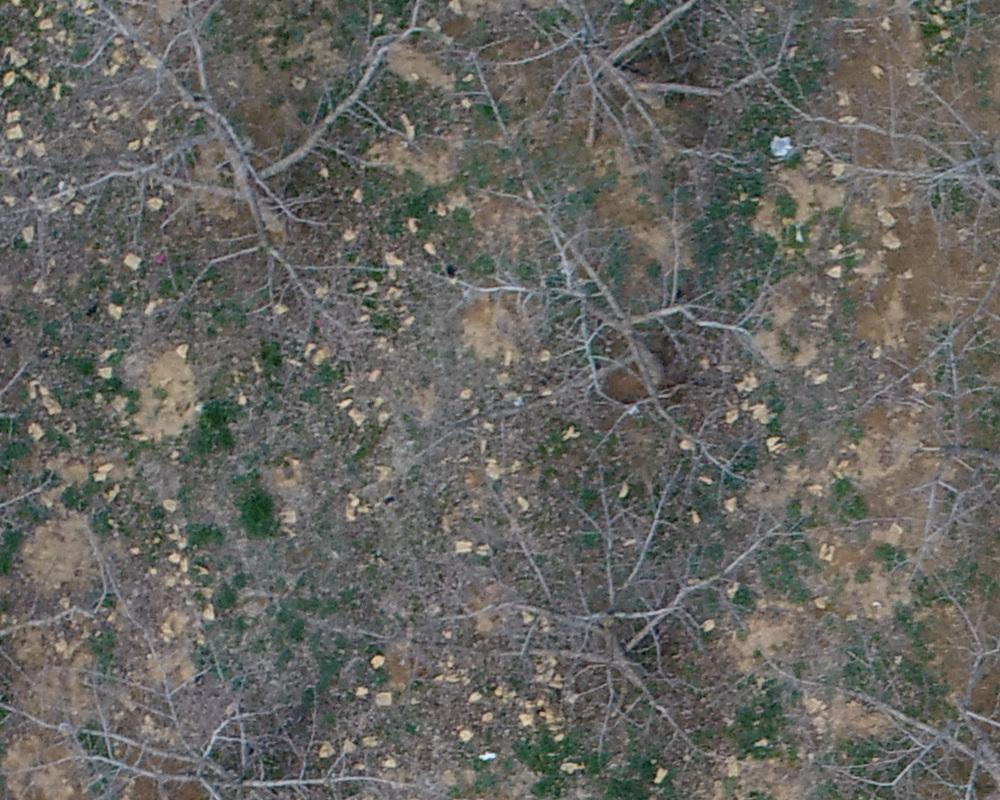apple: (66, 10, 409, 359), (446, 185, 794, 488), (441, 479, 769, 759), (801, 26, 990, 352), (476, 10, 807, 172), (32, 674, 392, 790)
